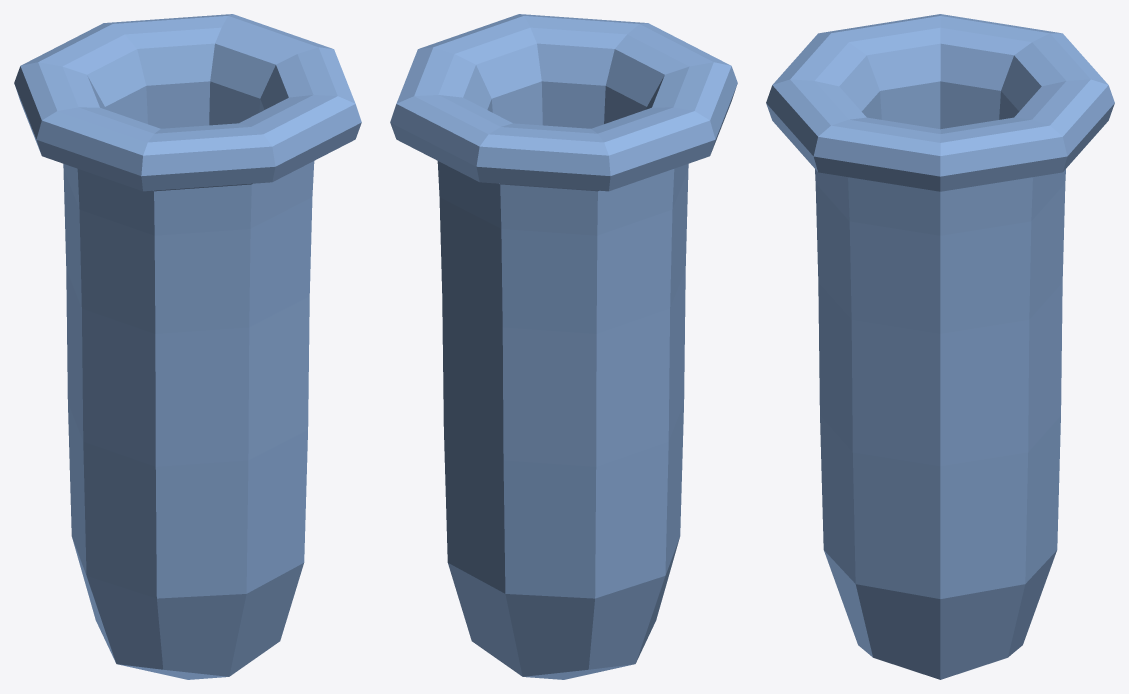
Rendered from Reagenzglas_Liquid.fbx.
3 views of the same model, side by side, from view 1: azimuth 30°, elevation 25°; view 2: azimuth 150°, elevation 25°; view 3: azimuth 270°, elevation 25° (orthographic).
Visible parts, largest first — view 1: Reagenzglas_Liquid; view 2: Reagenzglas_Liquid; view 3: Reagenzglas_Liquid.
Boxes of the visible parts, x1,y1,x2,y2 form: Reagenzglas_Liquid: (14, 14, 361, 679); Reagenzglas_Liquid: (390, 14, 737, 679); Reagenzglas_Liquid: (766, 14, 1114, 679).
Bounding box in the file's own units: 0.2026 × 0.3837 × 0.2026.
